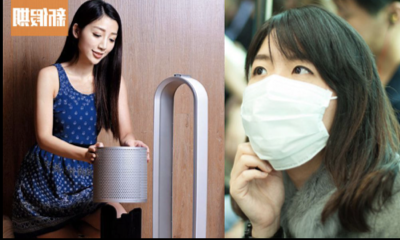with_mask: (238, 51, 335, 172)
without_mask: (76, 23, 119, 67)
